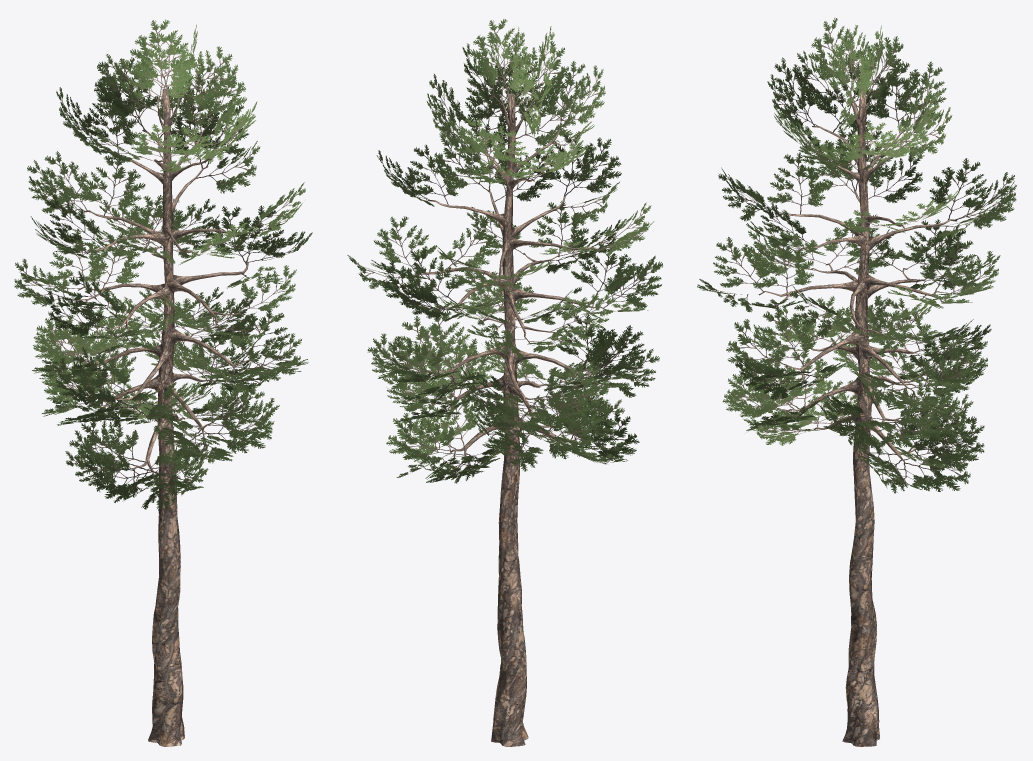
The model's file is tree-pine.glb.
3 views of the same model, side by side, from view 1: azimuth 30°, elevation 25°; view 2: azimuth 150°, elevation 25°; view 3: azimuth 270°, elevation 25° (orthographic).
Parts seen in each view (by area): view 1: Tree_1, Tree_0; view 2: Tree_1, Tree_0; view 3: Tree_1, Tree_0.
Part boxes in pixels (box(x1,y1,x2,y2)): Tree_1: box(14, 19, 312, 510); Tree_0: box(77, 88, 253, 746); Tree_1: box(347, 19, 662, 483); Tree_0: box(413, 88, 604, 746); Tree_1: box(697, 18, 1016, 493); Tree_0: box(759, 88, 956, 746).
Bounding box in the file's own units: 2.18 × 5.32 × 2.17.
2 materials, 2 textured.
